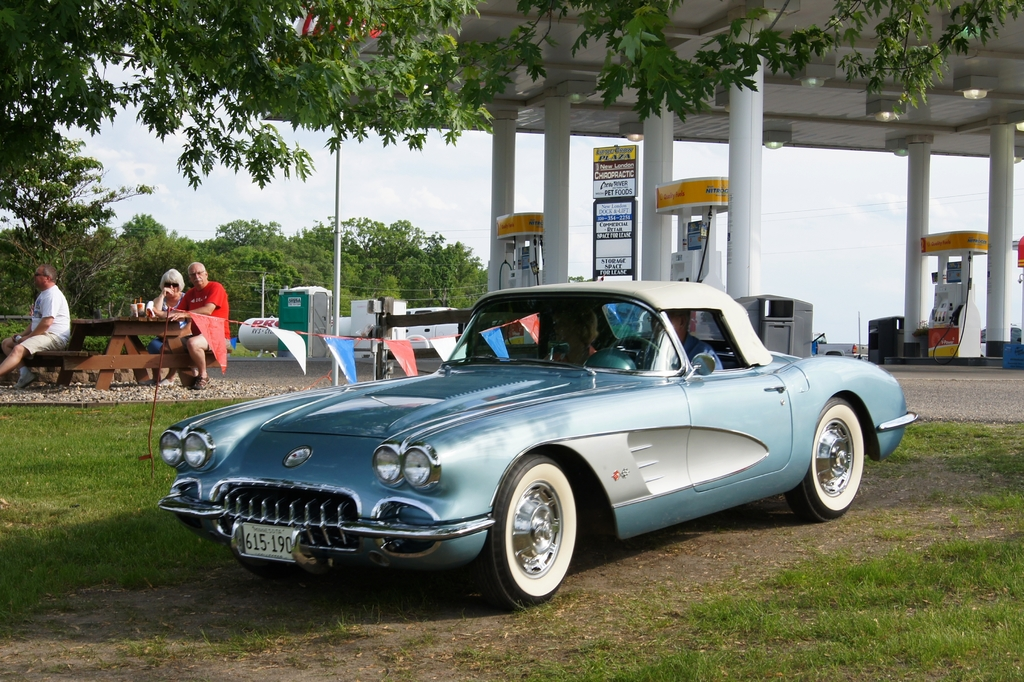cars: (144, 287, 899, 603)
